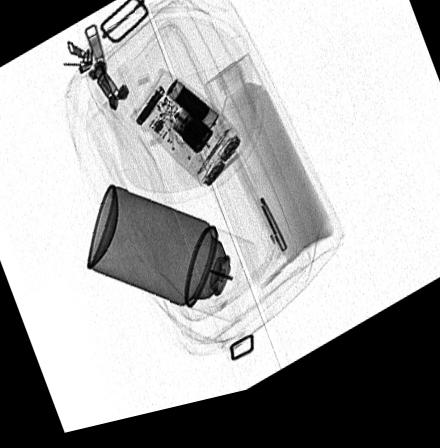Sprayer: (85, 189, 258, 333)
